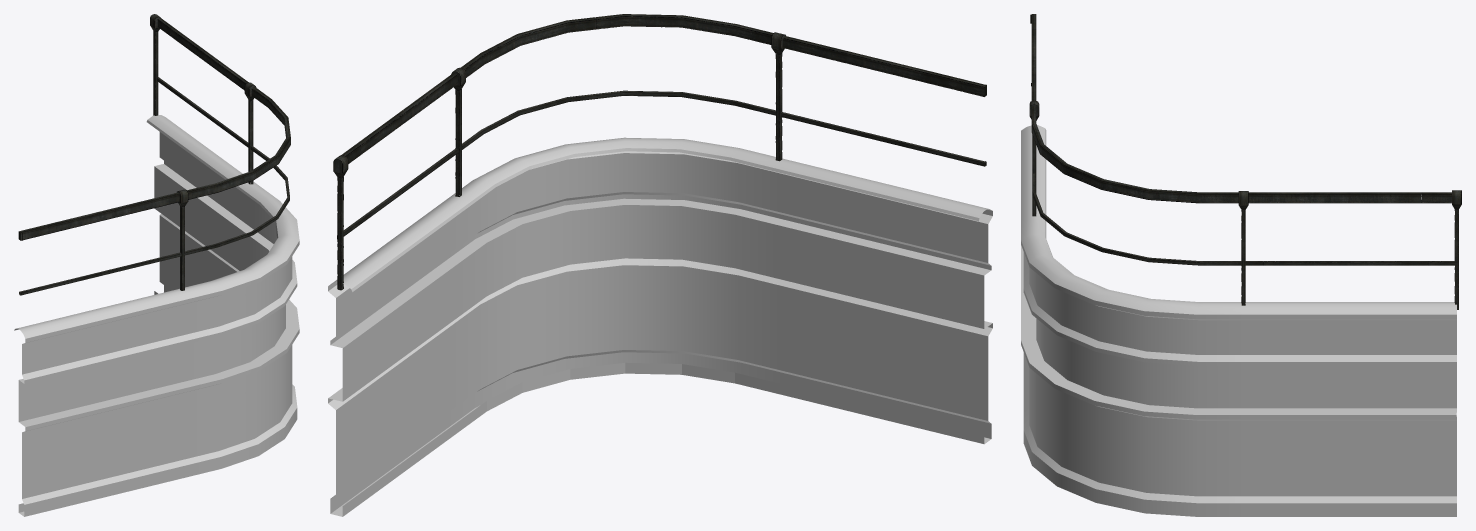
Rendered from engineroom_balcony_corner.dae.
3 views of the same model, side by side, from view 1: azimuth 30°, elevation 25°; view 2: azimuth 150°, elevation 25°; view 3: azimuth 270°, elevation 25° (orthographic). The views are drawn at different scales.
Visible parts, largest first — view 1: balcony_corner_metal2, balcony_corner_bricks2, balcony_corner_rail2; view 2: balcony_corner_metal2, balcony_corner_bricks2, balcony_corner_rail2; view 3: balcony_corner_metal2, balcony_corner_bricks2, balcony_corner_rail2.
Boxes of the visible parts, left/top/right/bottom form: balcony_corner_metal2: left=14, top=115, right=299, bottom=516; balcony_corner_bricks2: left=18, top=166, right=285, bottom=421; balcony_corner_rail2: left=18, top=14, right=290, bottom=295; balcony_corner_metal2: left=328, top=137, right=992, bottom=516; balcony_corner_bricks2: left=342, top=205, right=984, bottom=401; balcony_corner_rail2: left=333, top=14, right=986, bottom=290; balcony_corner_metal2: left=1021, top=125, right=1456, bottom=516; balcony_corner_bricks2: left=1036, top=318, right=1456, bottom=408; balcony_corner_rail2: left=1029, top=14, right=1461, bottom=309.
Bounding box in the file's own units: 408 × 332 × 412.
